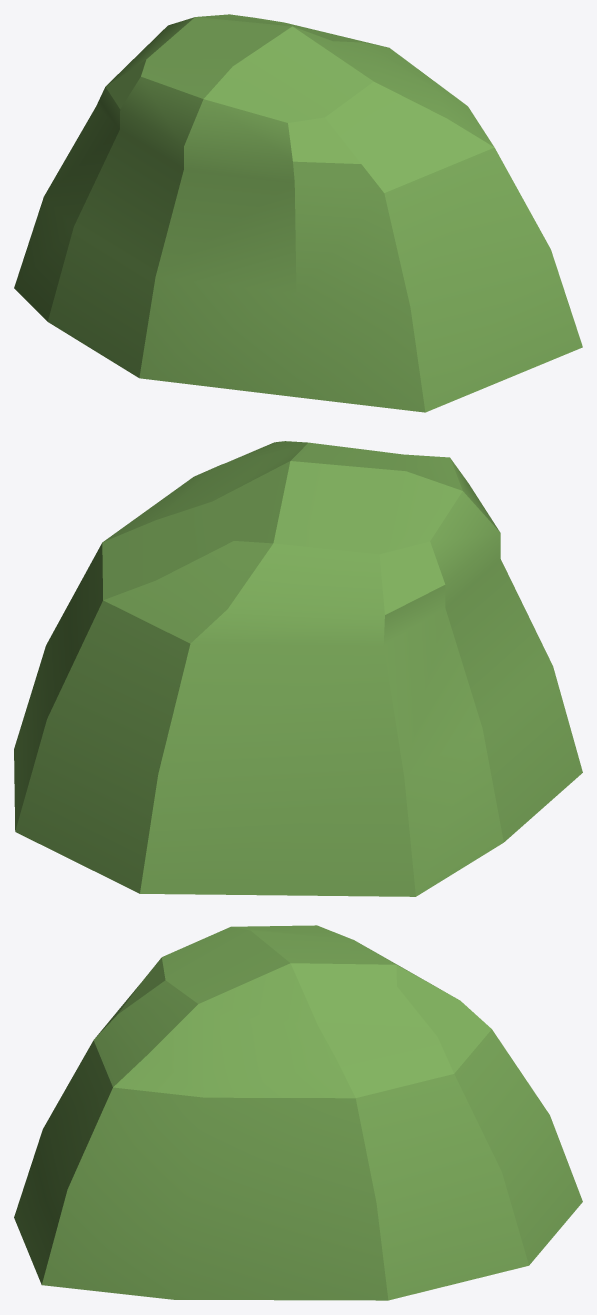
The model's file is Hill01.fbx.
3 views of the same model, one above another, from view 1: azimuth 30°, elevation 25°; view 2: azimuth 150°, elevation 25°; view 3: azimuth 270°, elevation 25° (orthographic). The views are drawn at different scales.
Visible parts, largest first — view 1: hill.004; view 2: hill.004; view 3: hill.004.
Boxes of the visible parts, left/top/right/bottom form: hill.004: left=14, top=14, right=582, bottom=412; hill.004: left=14, top=441, right=582, bottom=896; hill.004: left=14, top=925, right=582, bottom=1300.
Size of the model in its own units: 125 by 80.72 by 160.
